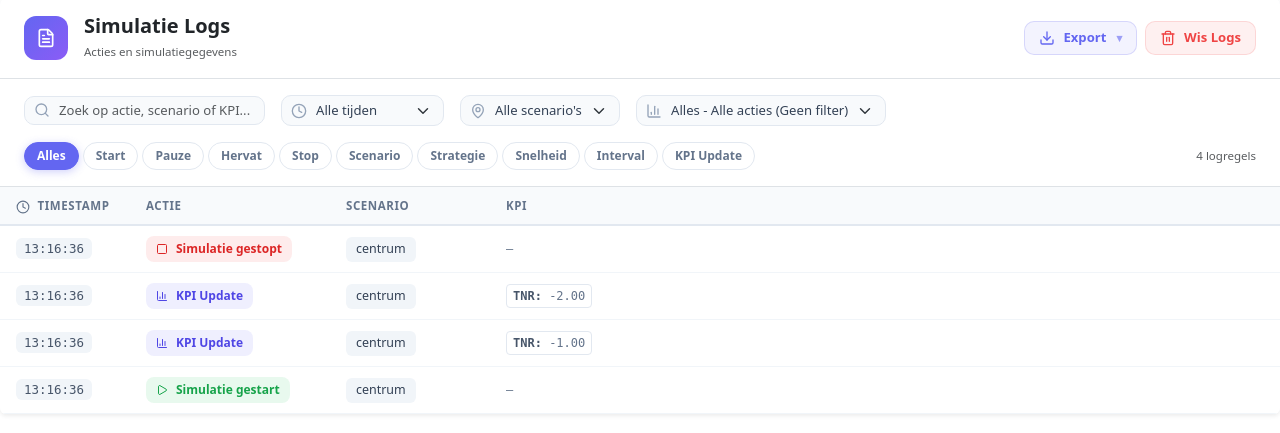
Test: LogsViewer.vue › filters logs by action type
Expected: the number of rows with class "log-row" is 4, [0,225,1279,273]; [0,273,1279,320]; [0,320,1279,367]; [0,367,1279,414]
# Click on "Start" filter pill
Click the button with class "filter-pill" showing "Start". click: click(111, 156)
box: [83,142,138,170]
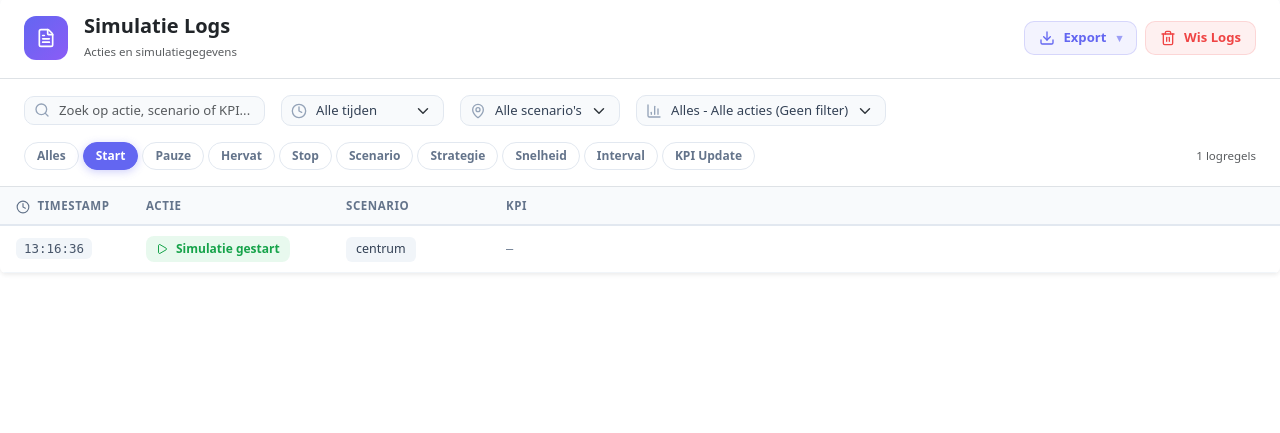
Expected: the element with class "action-badge" shows "gestart", [176,240,280,257]
Expected: the number of rows with class "log-row" is 1, [0,225,1279,273]
